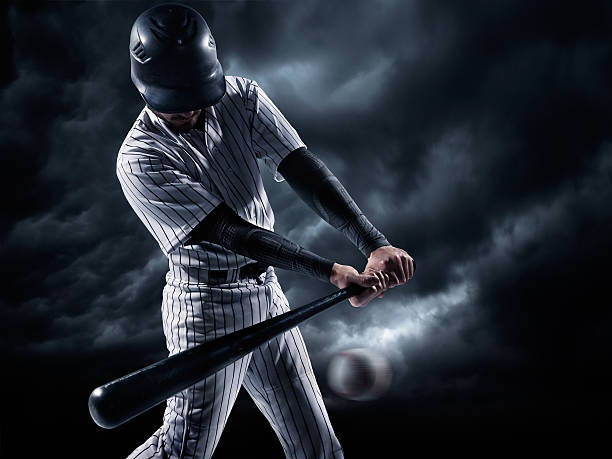bita: (88, 262, 402, 429)
